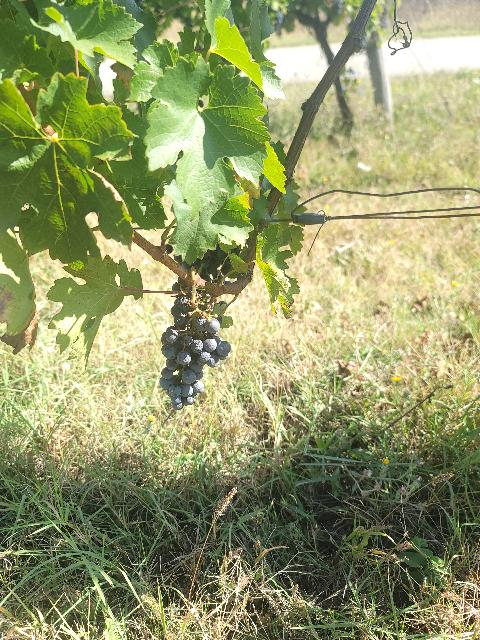grapes: (160, 314, 231, 410)
